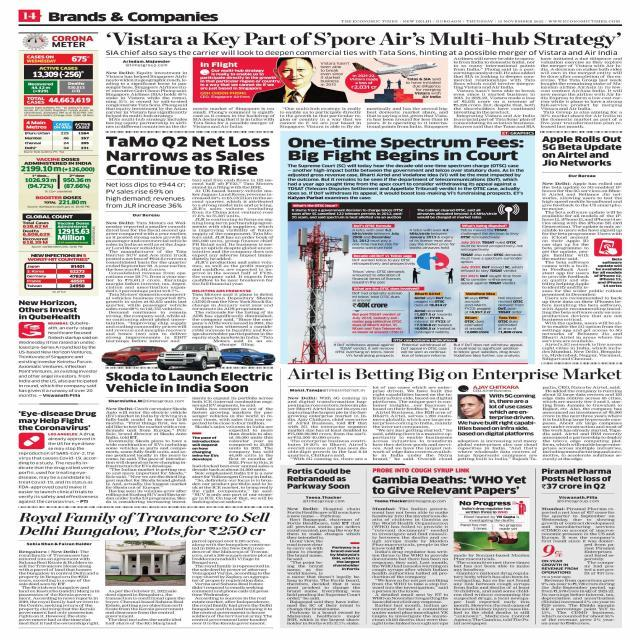Article: (284, 136, 530, 364), (100, 29, 626, 130), (102, 134, 277, 370), (284, 366, 627, 464), (14, 510, 274, 628), (368, 466, 532, 626), (102, 371, 276, 506), (539, 133, 624, 363), (282, 467, 364, 627), (538, 466, 618, 627), (15, 298, 100, 400), (15, 408, 100, 506)
Body: (192, 178, 274, 346), (105, 220, 186, 344), (372, 508, 449, 626), (286, 163, 525, 200), (105, 406, 188, 504), (192, 539, 274, 625), (17, 321, 99, 398), (18, 550, 100, 626), (542, 385, 623, 461), (540, 57, 624, 129), (372, 386, 453, 460), (453, 56, 536, 128), (17, 432, 98, 504), (542, 289, 623, 361), (452, 554, 530, 626), (286, 396, 368, 460), (104, 70, 189, 129), (542, 181, 622, 236), (541, 576, 616, 626), (286, 576, 361, 625), (191, 464, 274, 504), (104, 588, 185, 624), (542, 507, 616, 543), (192, 396, 275, 428), (542, 236, 589, 289), (286, 507, 362, 535), (278, 106, 362, 129), (192, 106, 276, 128), (366, 107, 450, 129), (352, 258, 416, 286), (456, 439, 536, 461), (229, 428, 274, 464), (286, 536, 324, 575), (352, 228, 401, 250), (408, 228, 456, 250), (584, 544, 616, 574)
Date: (467, 19, 545, 24)
Heading: (102, 31, 620, 49), (106, 136, 270, 176), (16, 512, 272, 537), (287, 137, 525, 162), (287, 368, 624, 382), (104, 372, 274, 392), (370, 476, 527, 496), (540, 134, 624, 168), (18, 410, 98, 430), (540, 468, 612, 490), (285, 468, 352, 490), (18, 300, 81, 320)
Highlights: (105, 50, 618, 56), (464, 292, 524, 334), (199, 61, 281, 90), (104, 182, 188, 209), (458, 500, 524, 531), (414, 292, 456, 335), (290, 208, 406, 219), (488, 394, 536, 420), (352, 312, 406, 334), (457, 421, 536, 436), (452, 343, 525, 358), (592, 257, 624, 288), (415, 208, 498, 219), (332, 343, 396, 357), (330, 545, 360, 571), (459, 274, 524, 286), (460, 240, 524, 252), (406, 78, 442, 99), (401, 342, 448, 358), (320, 61, 350, 86), (192, 436, 220, 461), (461, 253, 524, 264), (460, 228, 520, 239), (540, 560, 578, 574), (461, 264, 524, 272)
Image: (294, 222, 346, 340), (101, 346, 275, 369), (20, 156, 99, 204), (105, 540, 186, 586), (24, 54, 92, 106), (20, 252, 99, 290), (23, 119, 94, 151), (22, 213, 91, 244), (282, 58, 318, 102), (453, 532, 529, 552), (364, 58, 442, 76), (458, 394, 486, 420)
Name: (48, 12, 220, 24), (340, 19, 398, 23)
